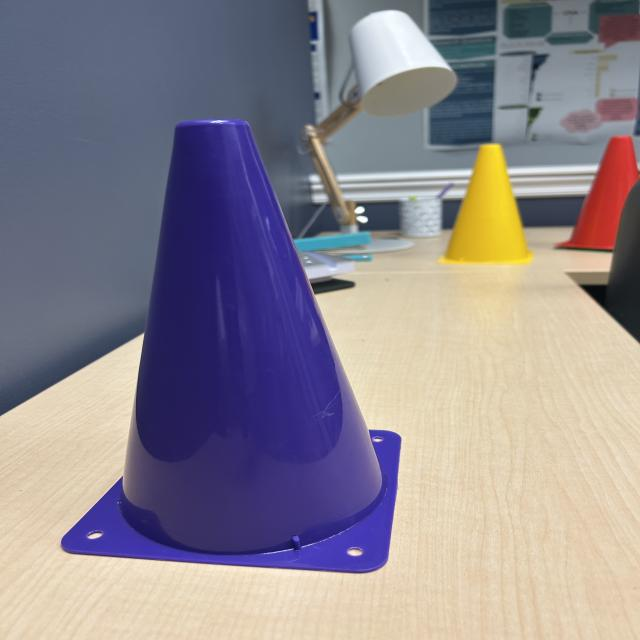purple cone: (58, 117, 409, 577)
